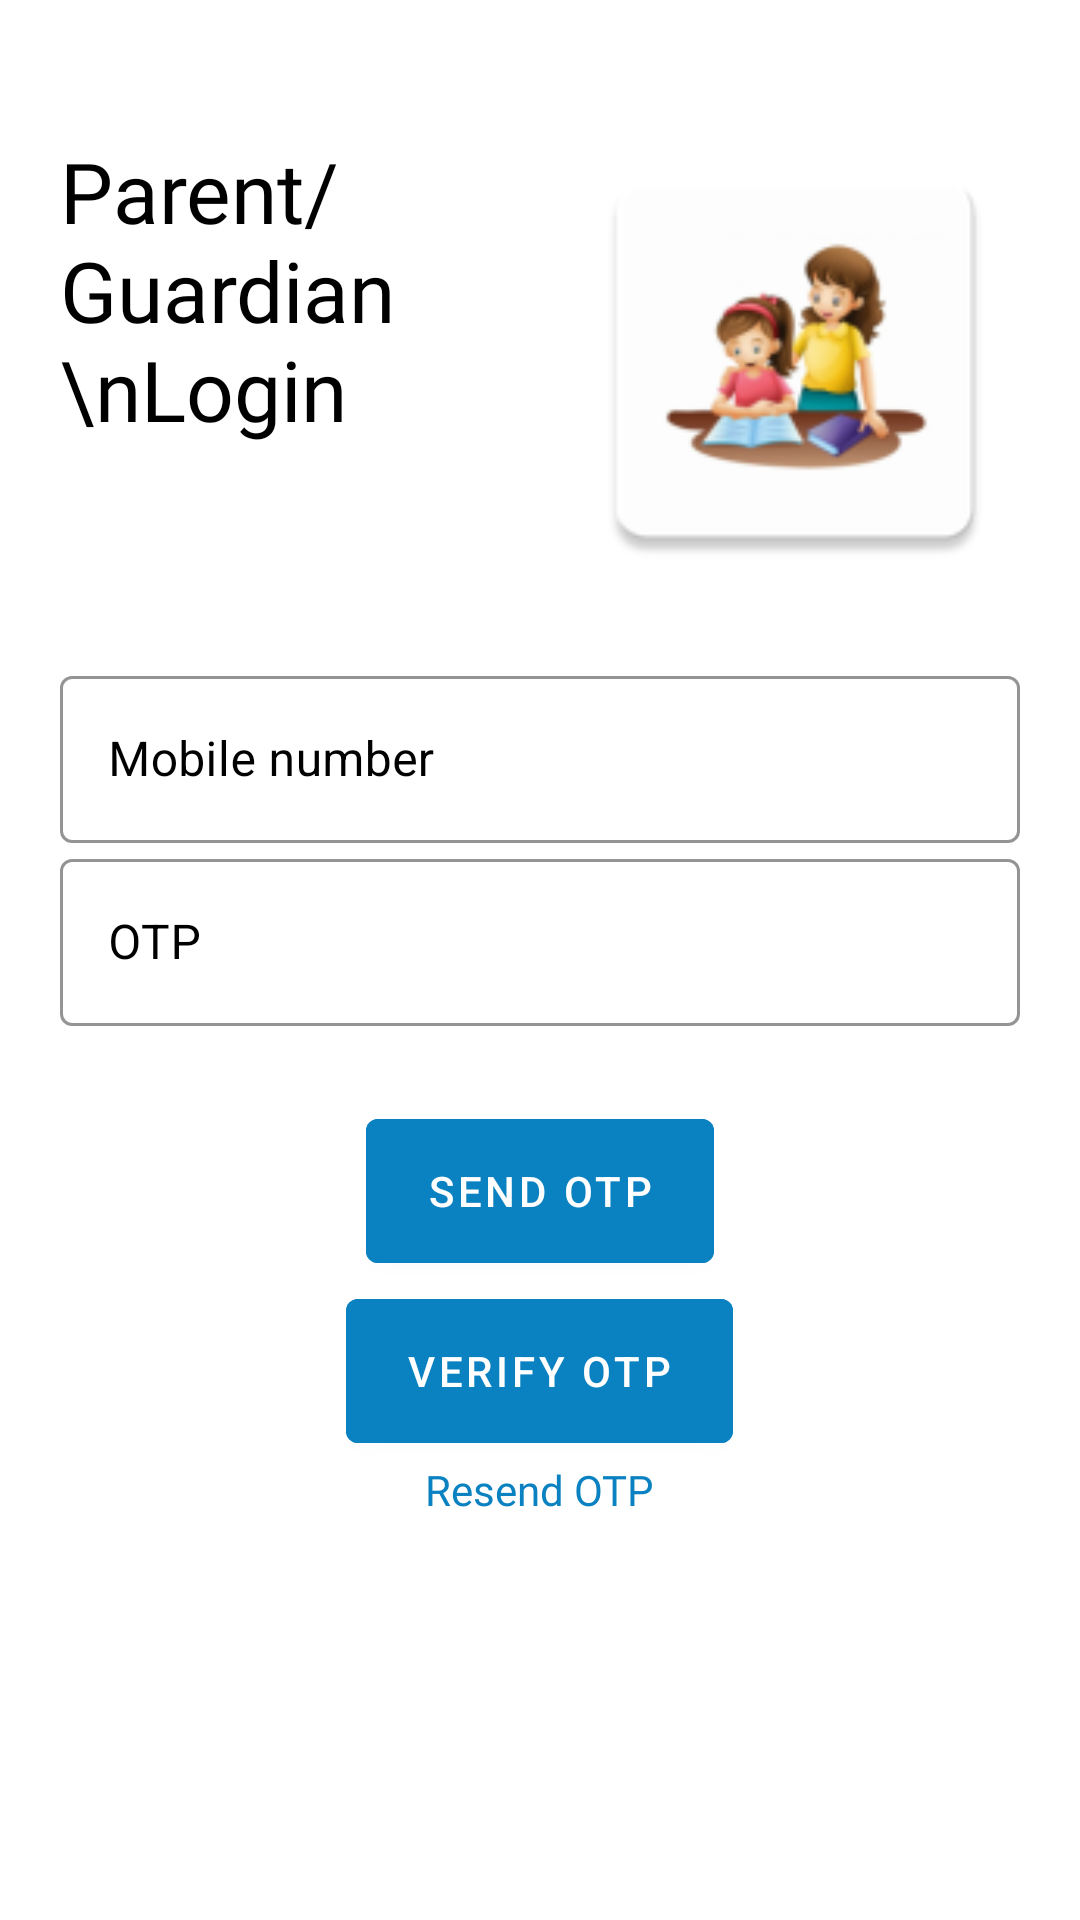

Named icons in this screenshot (1080*1920) and their bounding boxes, box(x1, y1, x2, y2):
parents: box(617, 200, 976, 549)
